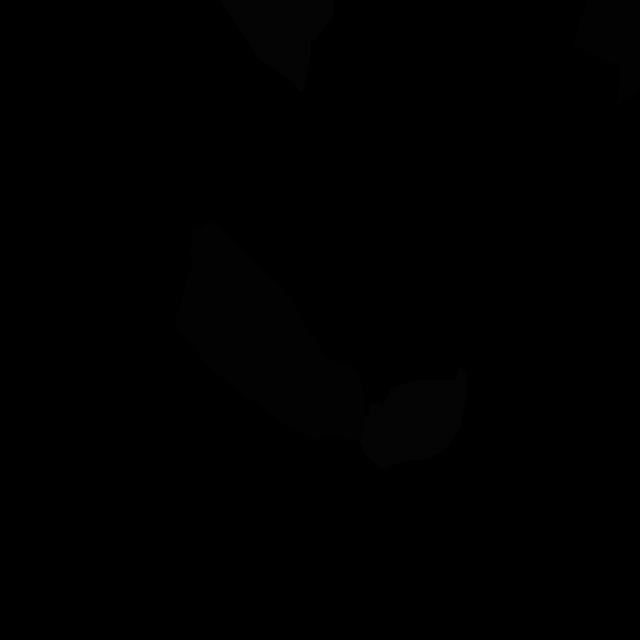cardboard: (176, 222, 364, 440), (573, 0, 640, 106)
soft_plastic: (358, 366, 467, 469), (219, 0, 335, 91)
